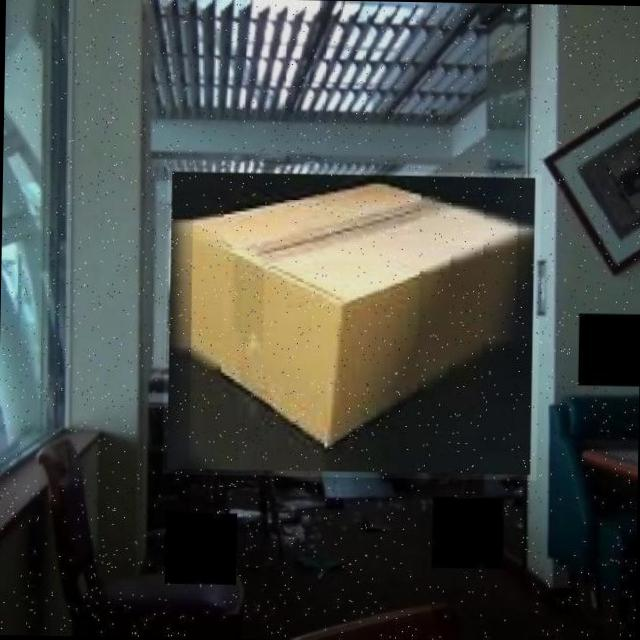box: (162, 167, 541, 480)
